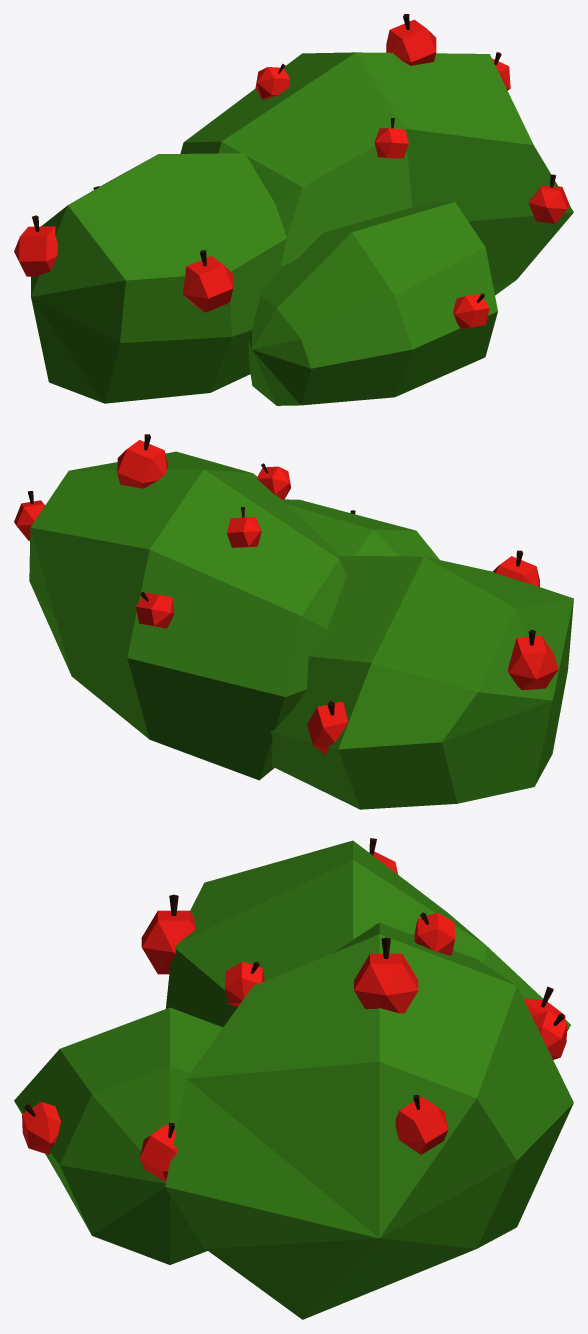
File: bush 3.fbx
3 views of the same model, one above another, from view 1: azimuth 30°, elevation 25°; view 2: azimuth 150°, elevation 25°; view 3: azimuth 270°, elevation 25° (orthographic). The views are drawn at different scales.
Parts seen in each view (by area): view 1: bush 3; view 2: bush 3; view 3: bush 3.
Boxes of the visible parts, bbox=[...] form: bush 3: bbox=[14, 14, 573, 405]; bush 3: bbox=[14, 434, 573, 809]; bush 3: bbox=[14, 838, 573, 1319].
Bounding box in the file's own units: 514 × 267 × 377.
